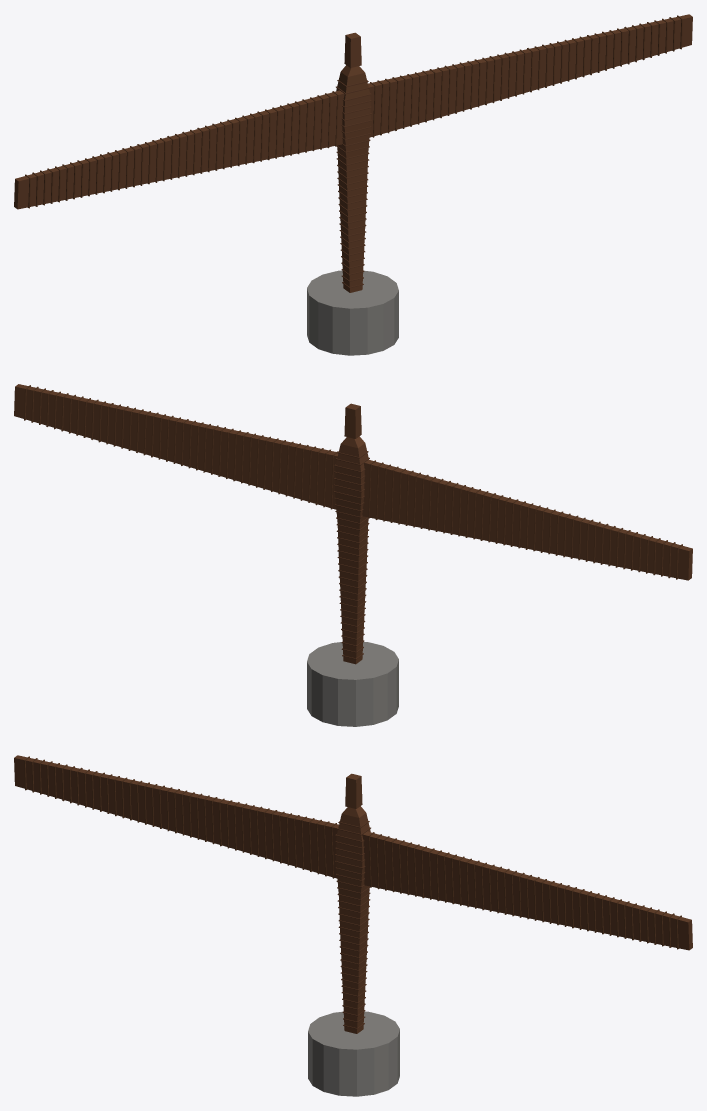
Rendered from angel.glb.
The picture shows the model from 3 angles, top to bottom: view 1: azimuth 30°, elevation 25°; view 2: azimuth 150°, elevation 25°; view 3: azimuth 330°, elevation 25°; orthographic projection.
Visible parts, largest first — view 1: figure#far; view 2: figure#far; view 3: figure#far.
Part boxes in pixels (x1=…): figure#far: x1=14, y1=14, x2=692, y2=355; figure#far: x1=14, y1=384, x2=692, y2=726; figure#far: x1=14, y1=755, x2=692, y2=1096.
Size of the model in its own units: 54 by 23 by 6.28.
